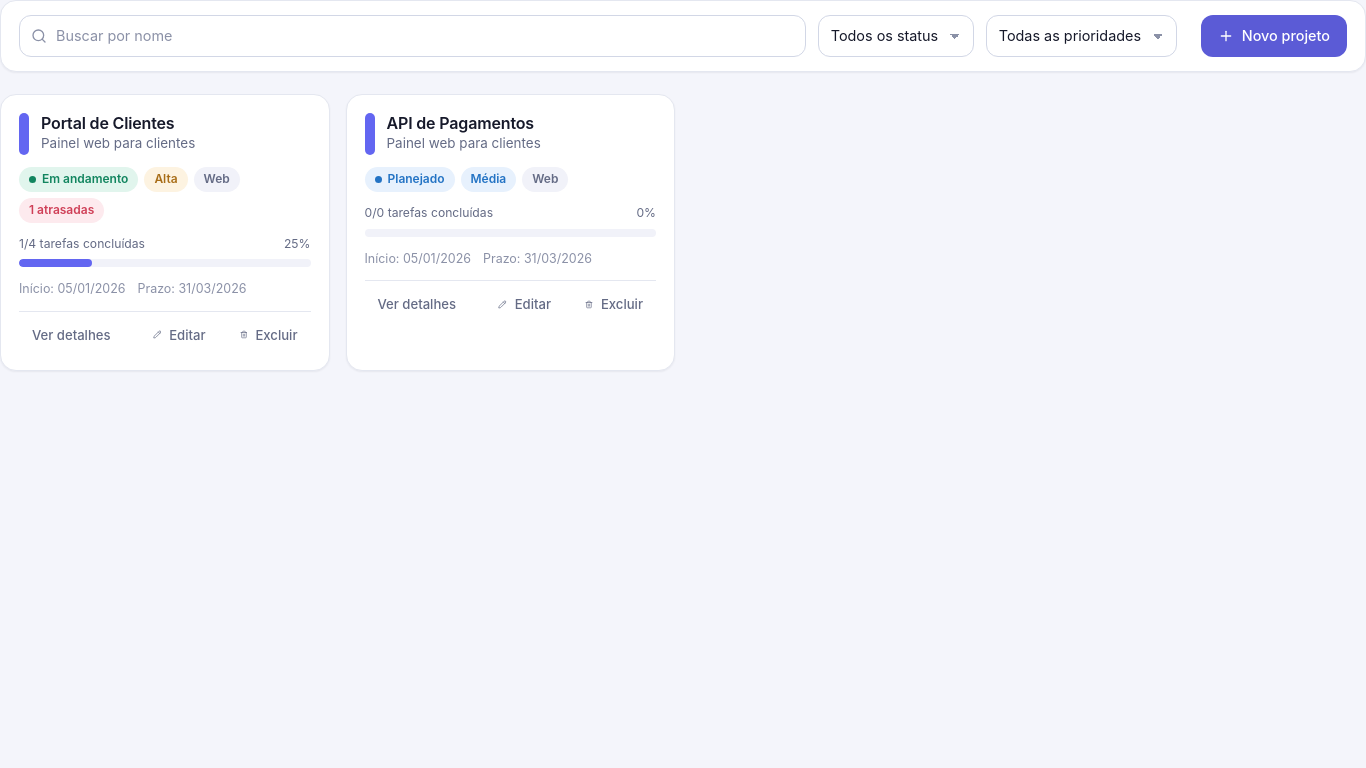
ProjectsPage › cria um projeto pelo formulário
expect the heading "Portal de Clientes" is shown: met, box [41, 113, 174, 133]
Step 1. Click the button "Novo projeto" → (1274,36), box [1201, 15, 1347, 57]
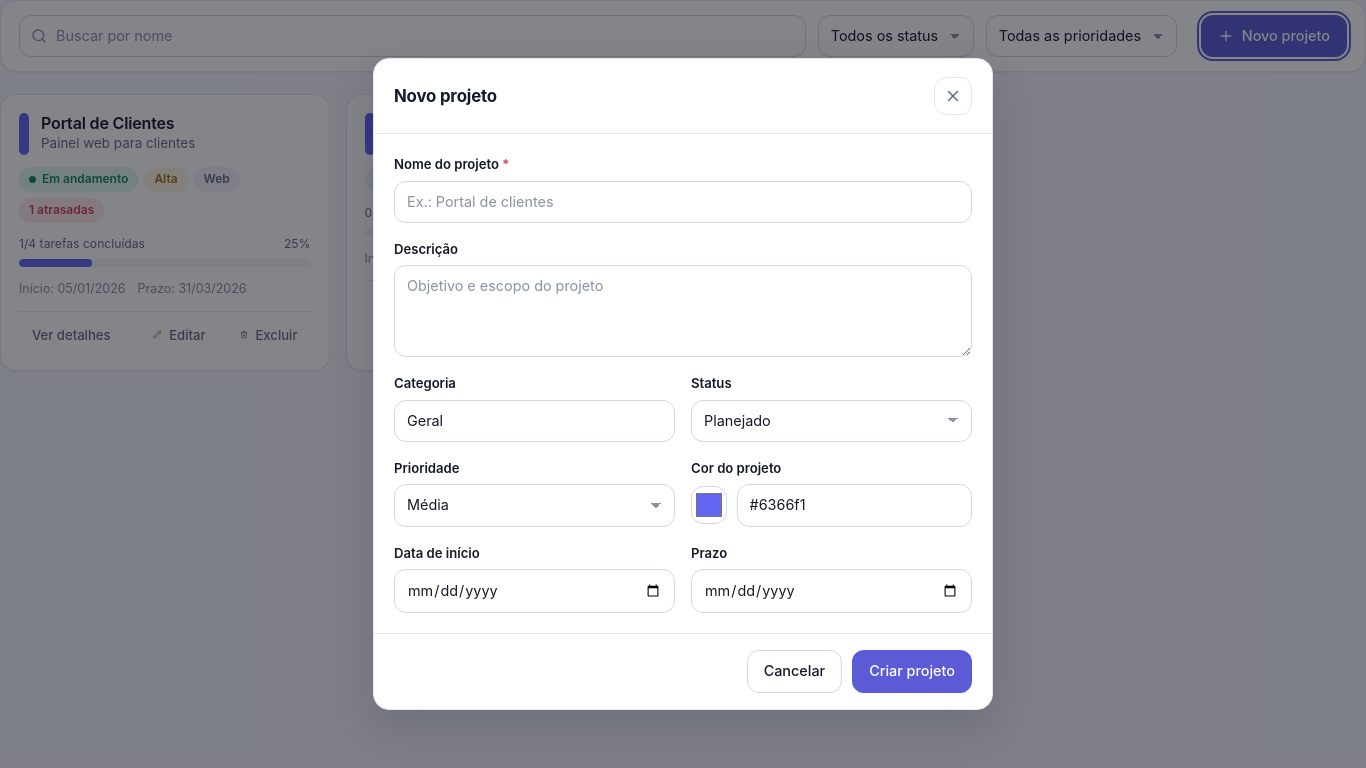
Step 2. Type "Novo projeto" into the field labelled "Nome do projeto *" → (683,202), box [394, 181, 972, 223]
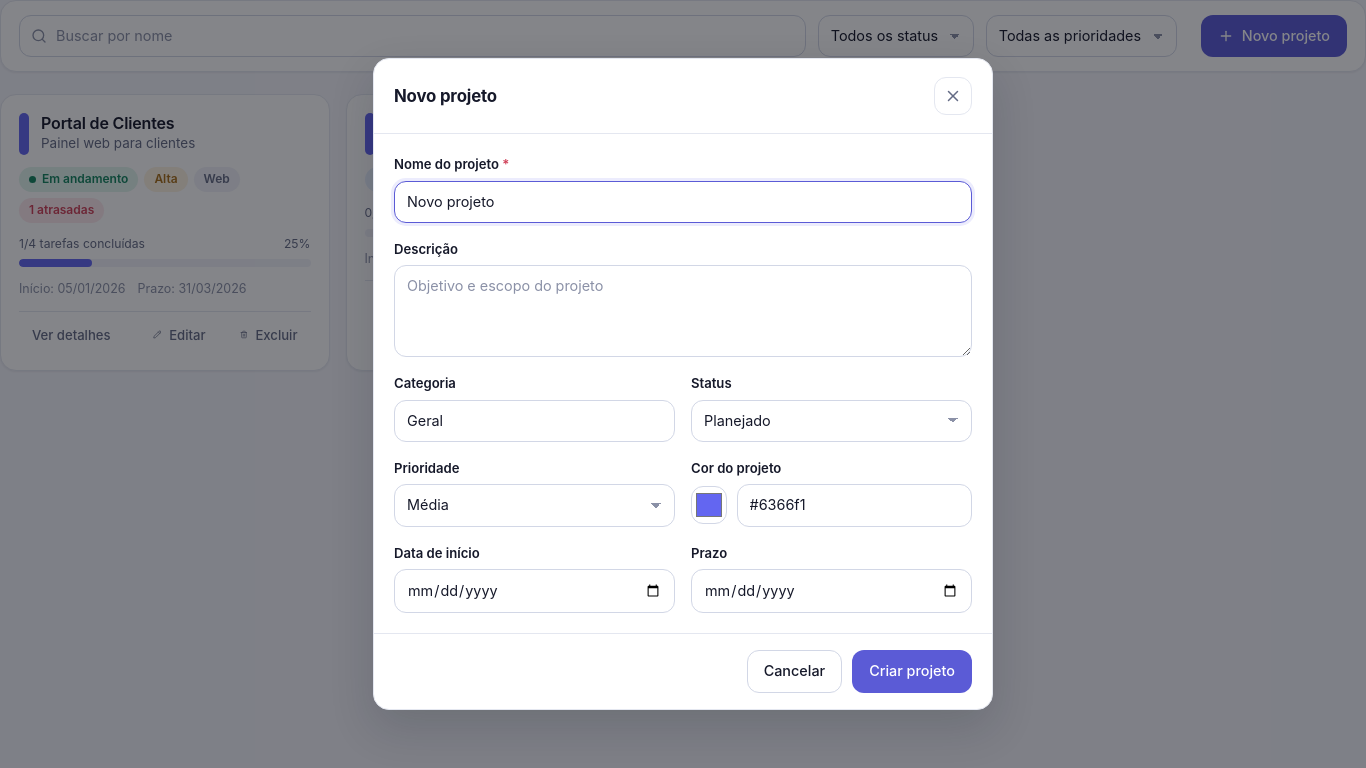
Step 3. Click the button "Criar projeto" → (912,671), box [852, 650, 972, 693]
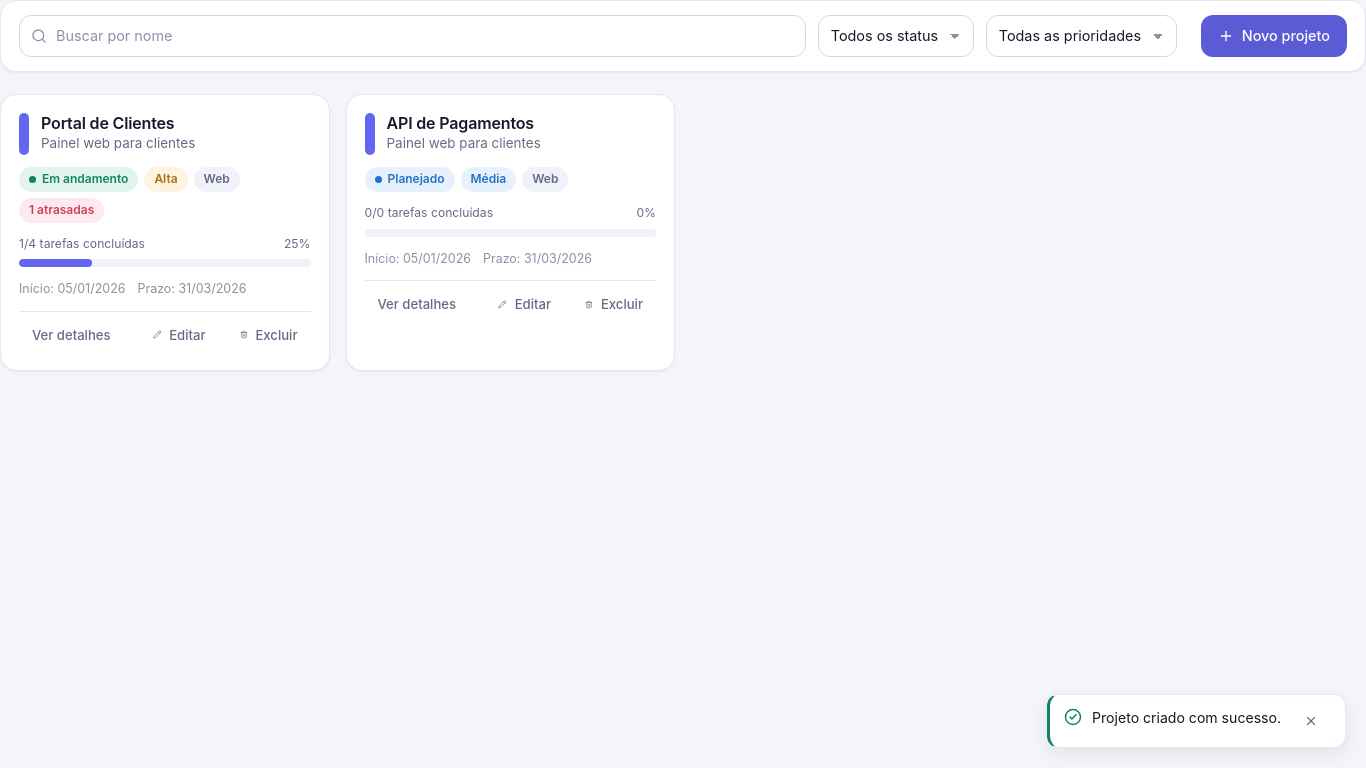
expect the text "Projeto criado com sucesso." is shown: met, box [1092, 707, 1281, 729]
